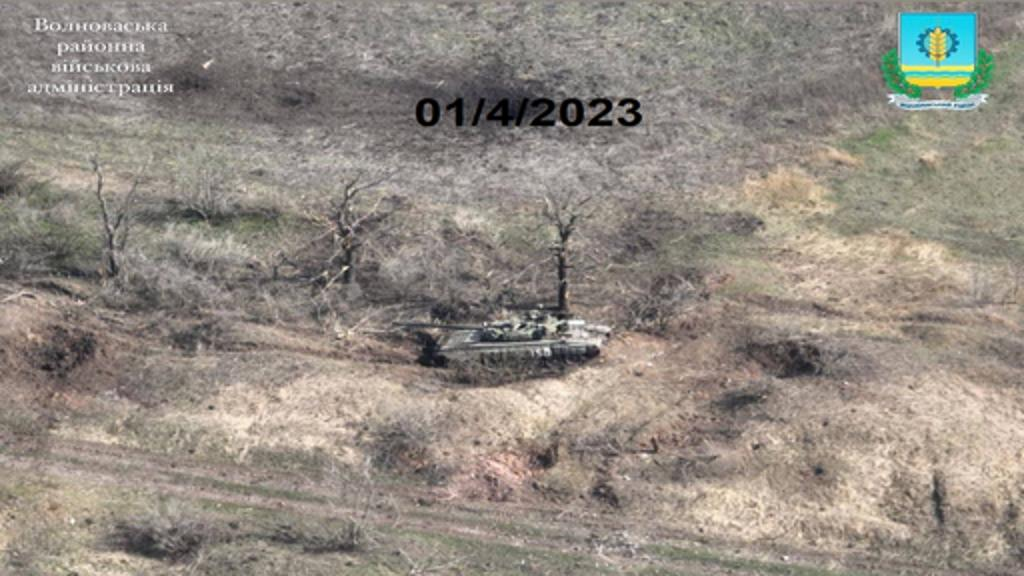TANK: (380, 304, 604, 370)
